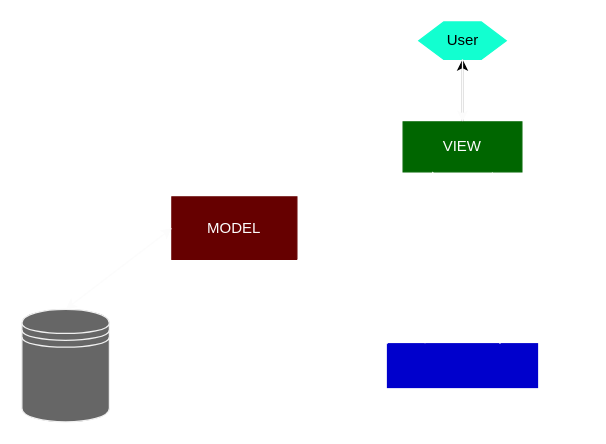
This 606x444 diagram has some shape labels left out. The centre of each missing label's shape, as x and y in pixels:
CONTROLLER: [462,365]
SQLite Database: [65,365]
